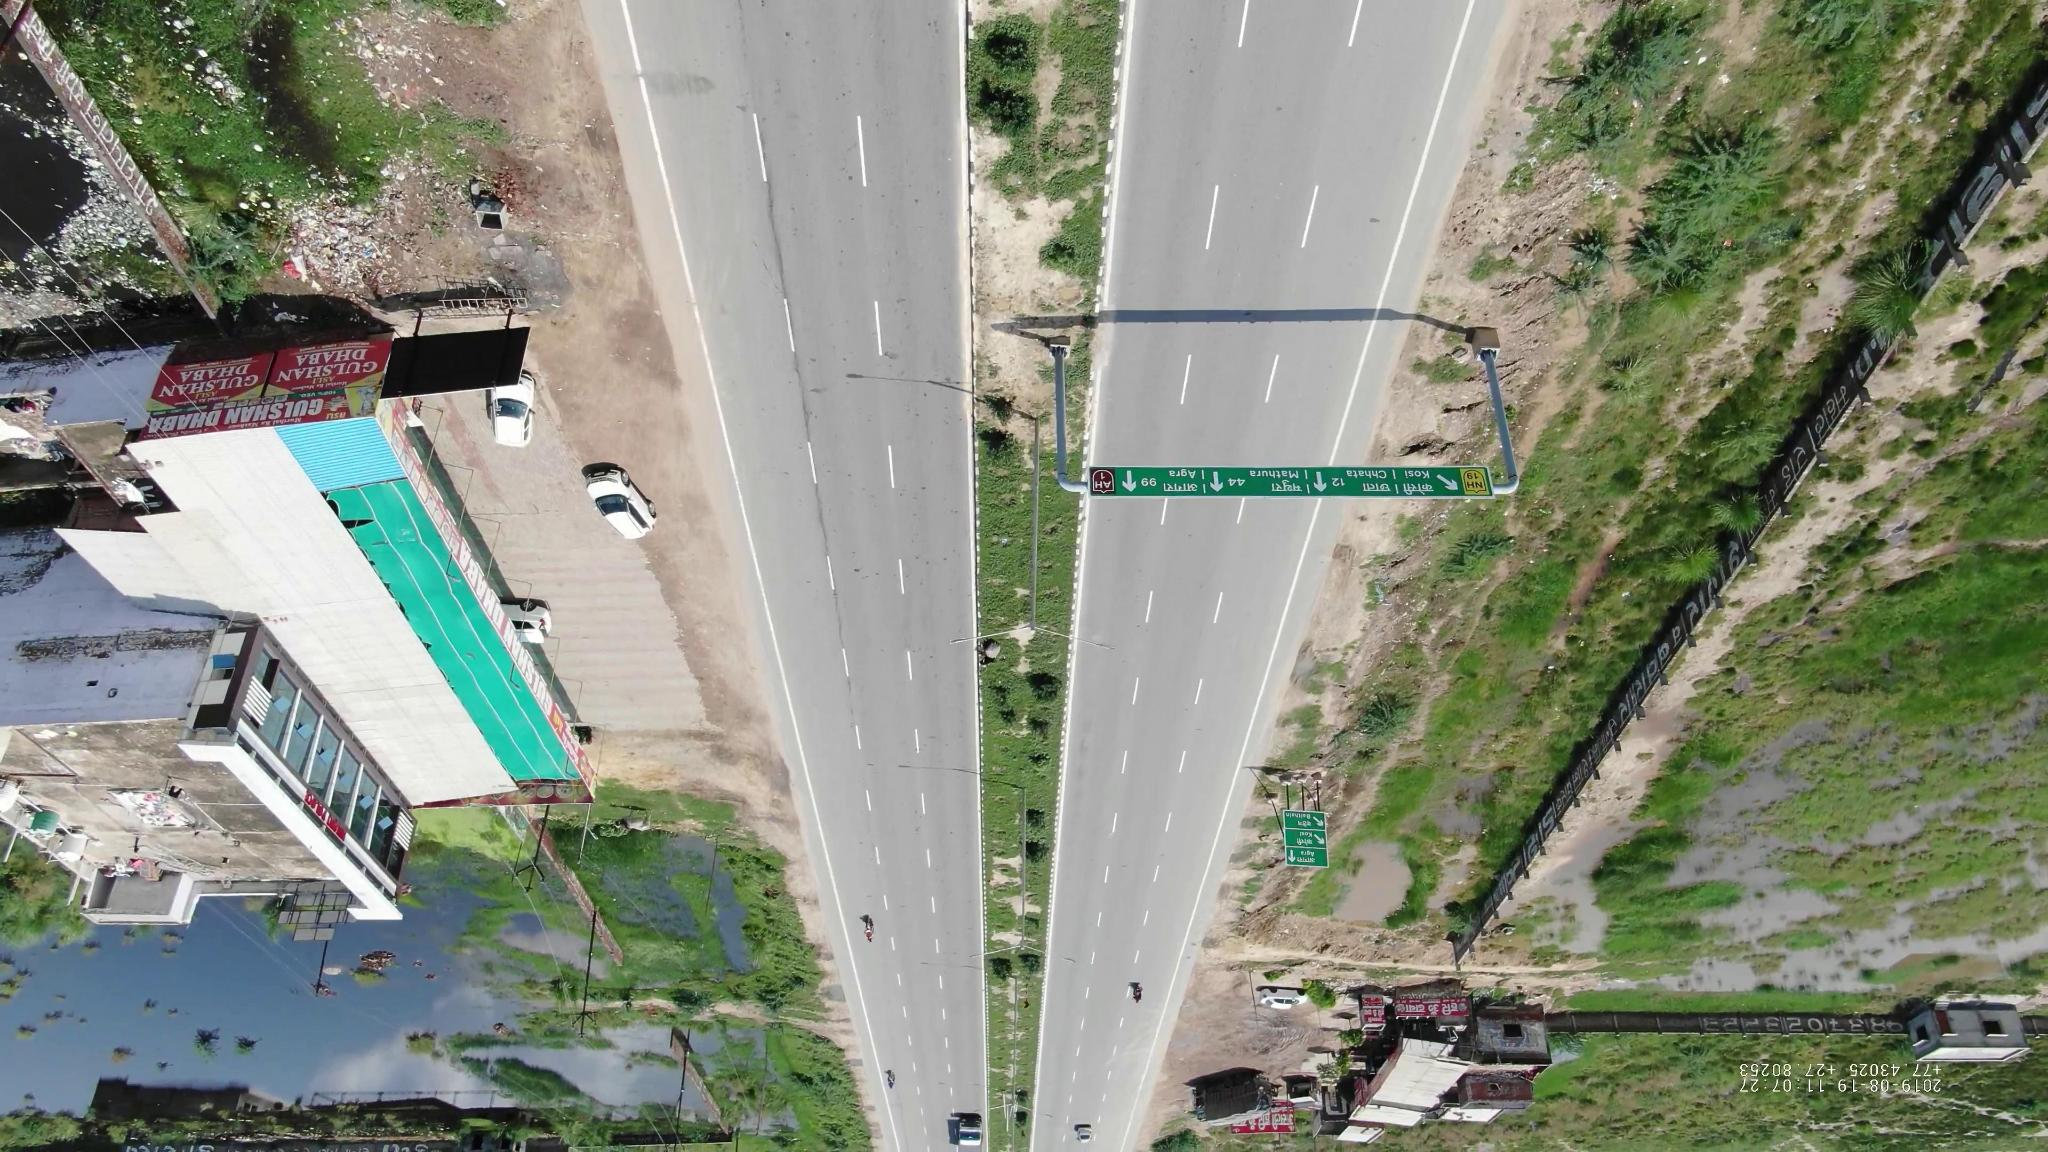Cracks: (788, 371, 845, 650), (767, 181, 807, 421)
